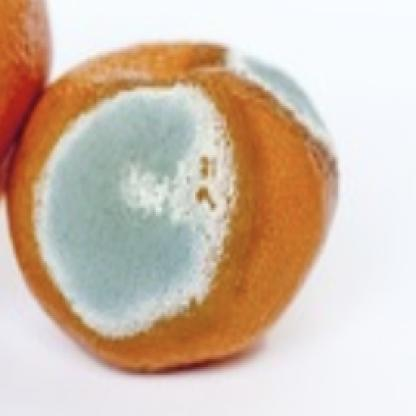rotten: (9, 46, 337, 376)
